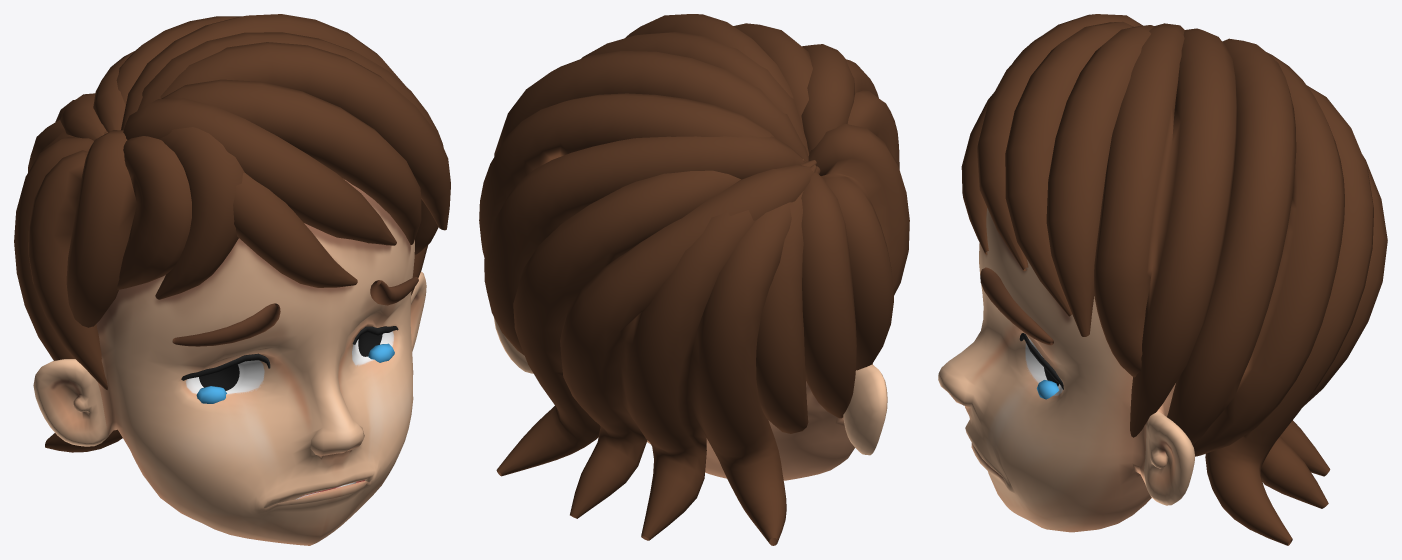
Rendered from KidSad.glb.
3 renders of one model, left to right at view 1: azimuth 30°, elevation 25°; view 2: azimuth 150°, elevation 25°; view 3: azimuth 270°, elevation 25°, orthographic. The views are drawn at different scales.
Visible parts, largest first — view 1: BézierCurve.010, Cube.001, Cube.003; view 2: BézierCurve.010, Cube.001; view 3: BézierCurve.010, Cube.001.
Boxes of the visible parts, x1,y1,x2,y2 form: BézierCurve.010: (14, 14, 450, 452); Cube.001: (33, 179, 426, 545); Cube.003: (181, 326, 398, 380); BézierCurve.010: (479, 14, 909, 545); Cube.001: (494, 317, 887, 480); BézierCurve.010: (961, 14, 1387, 545); Cube.001: (938, 208, 1194, 532).
Size of the model in its own units: 0.479 by 0.5416 by 0.4582.
Materials: 3 (2 with a texture image).
